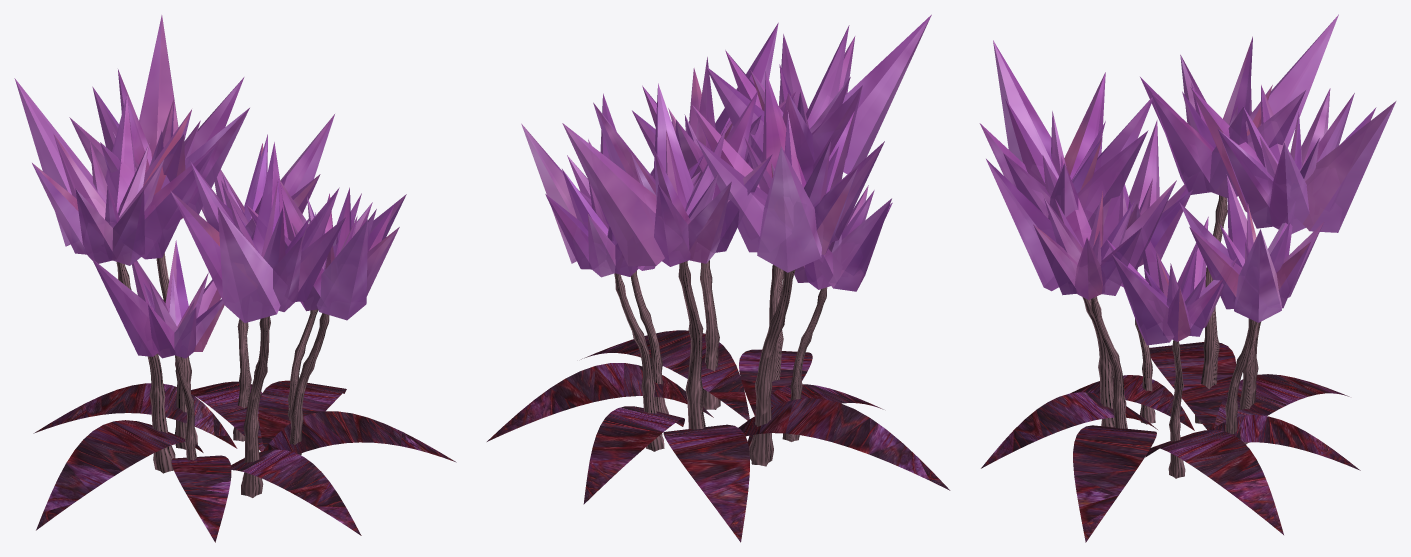
File: crystal_02.glb
3 renders of one model, left to right at view 1: azimuth 30°, elevation 25°; view 2: azimuth 150°, elevation 25°; view 3: azimuth 270°, elevation 25°, orthographic. The views are drawn at different scales.
Visible parts, largest first — view 1: export; view 2: export; view 3: export.
Boxes of the visible parts, bbox=[...] form: export: bbox=[14, 15, 456, 542]; export: bbox=[487, 14, 950, 542]; export: bbox=[979, 14, 1396, 542].
Size of the model in its own units: 1.1 by 1.01 by 1.02.
3 materials, 3 textured.
